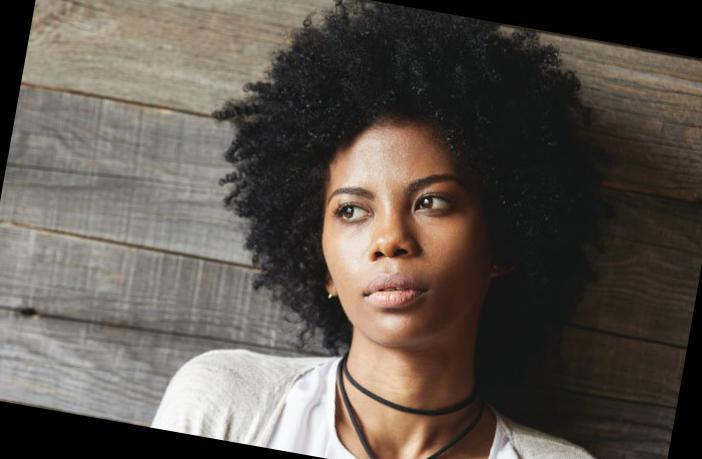Sober: (334, 143, 471, 338)
